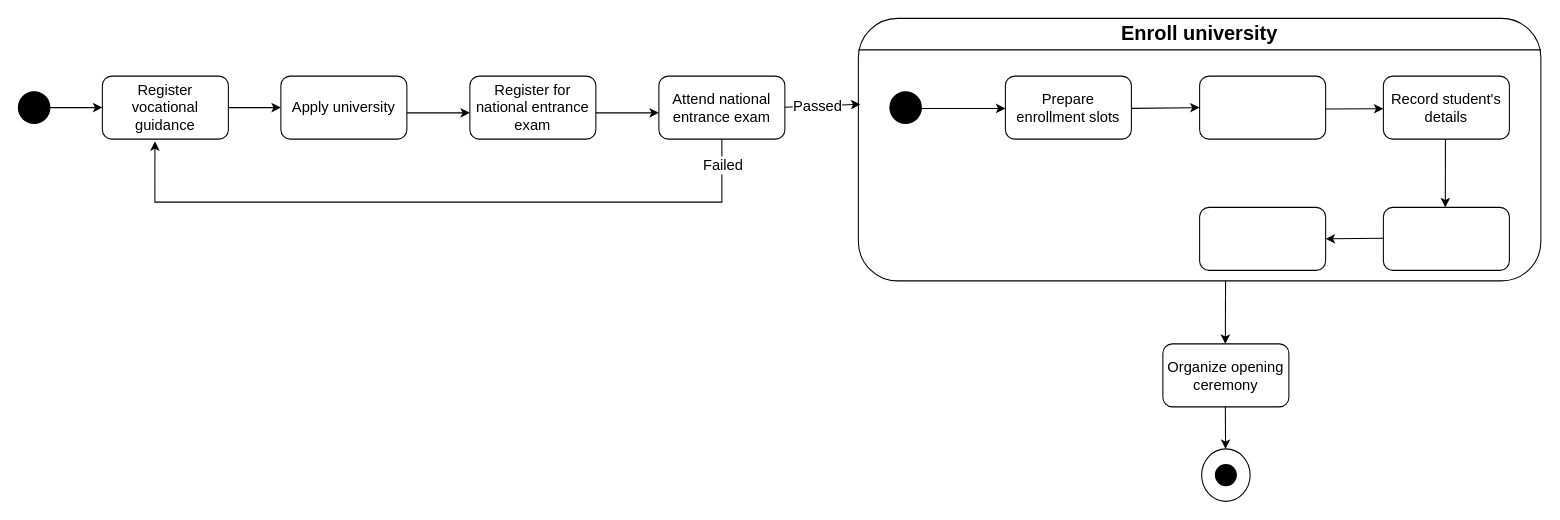
This 1560x520 diagram has some shape labels left out. Here are the shapes that lost their labels. From the top down, the box of each, then its label:
(1199, 75, 1326, 139): Examine enrollment
(1199, 206, 1326, 270): Announce result
(1382, 206, 1509, 270): Organize Enrollment campaign
